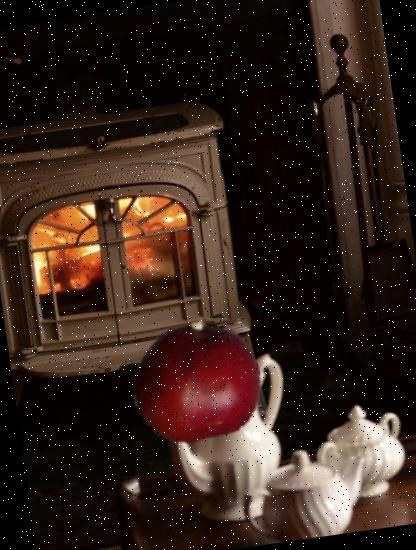Nectarine: (124, 309, 270, 455)
